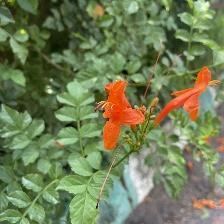honeysuckle: (91, 82, 149, 148)
